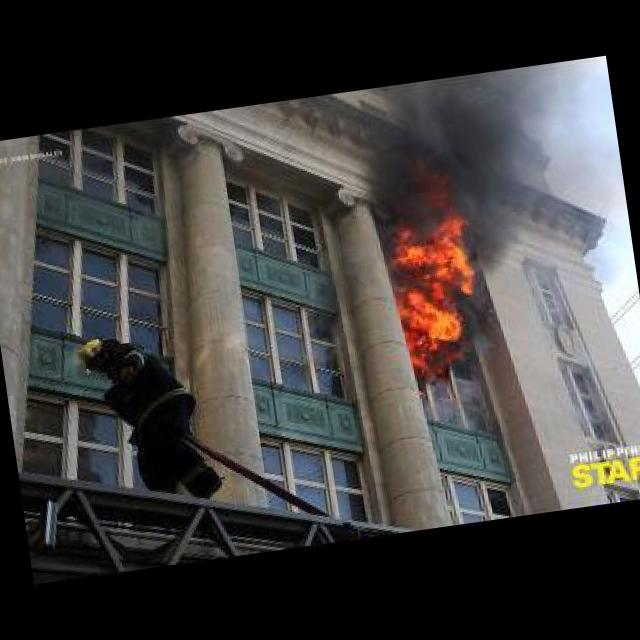Fire: (368, 198, 498, 386)
Smoke: (358, 62, 572, 270)
